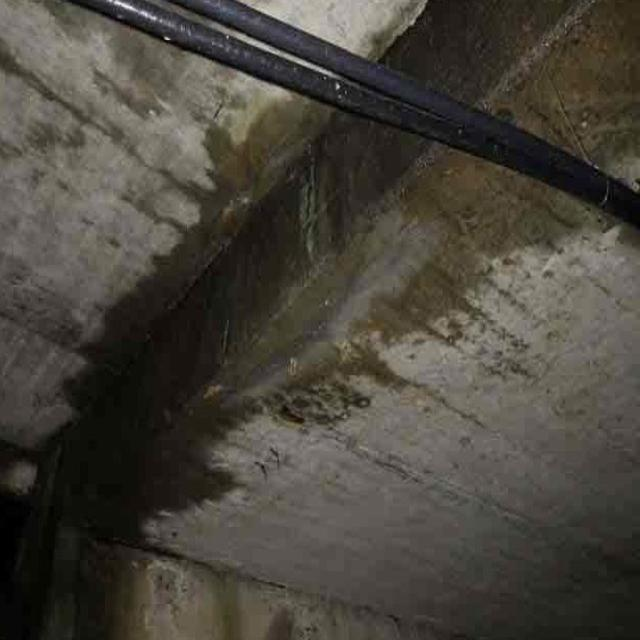leakage: (57, 23, 590, 504)
